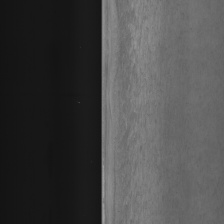silk_spot: (118, 11, 161, 208)
